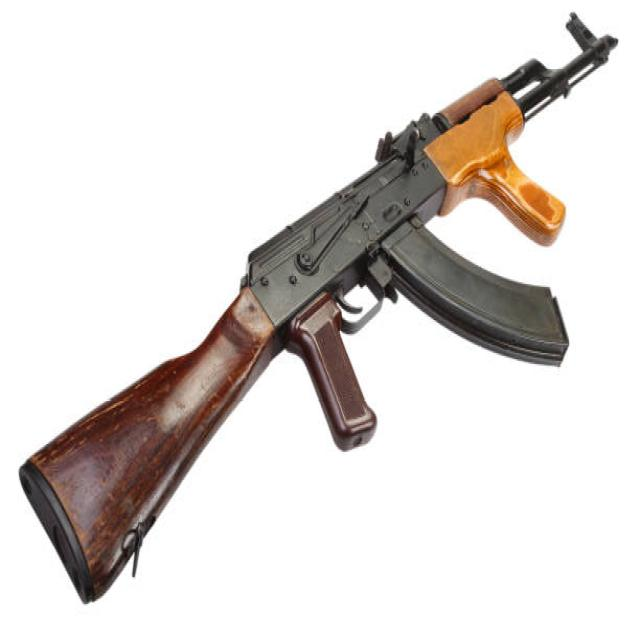rifle: (12, 6, 619, 614)
